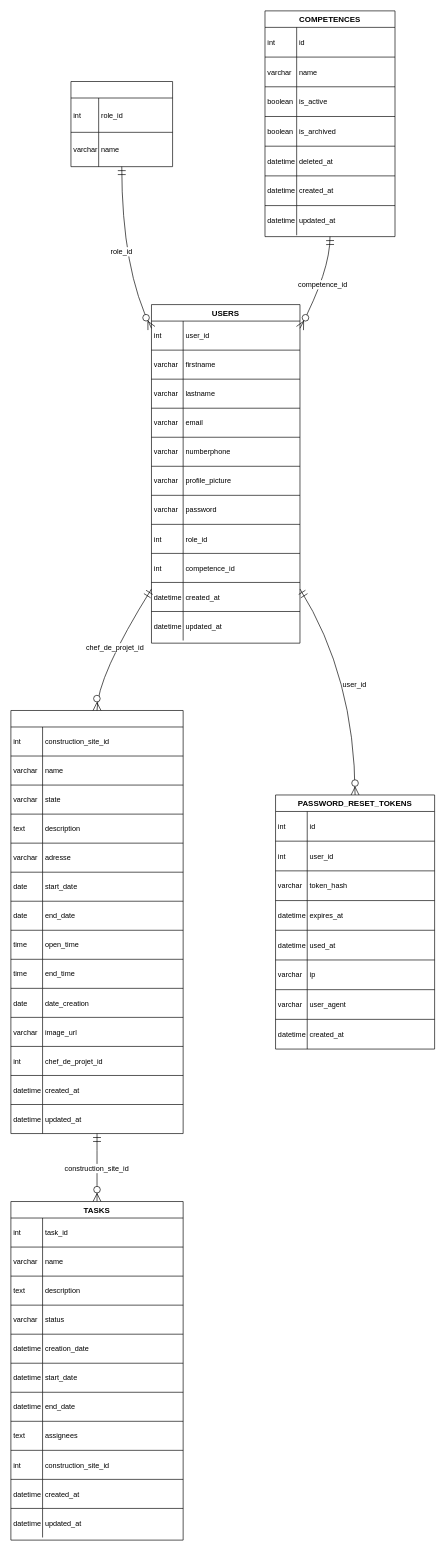
This 446x1551 diagram has some shape labels left out. The box of each missing label's shape, as (x1, y1, x2, y2) in pixels:
CONSTRUCTION_SITES: (10, 710, 183, 1134)
ROLES: (70, 81, 173, 167)
